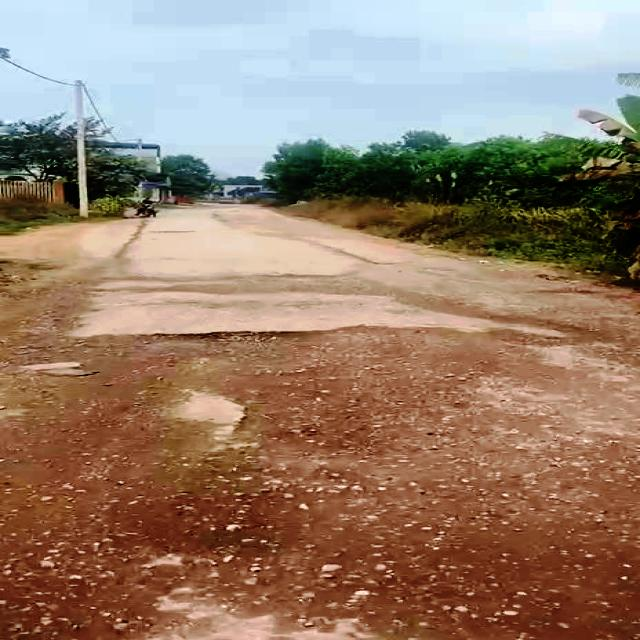pothole: (148, 328, 357, 358), (220, 386, 330, 442), (488, 321, 592, 351)
